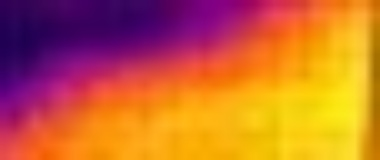Shadow: (1, 1, 258, 62), (1, 63, 89, 117)
